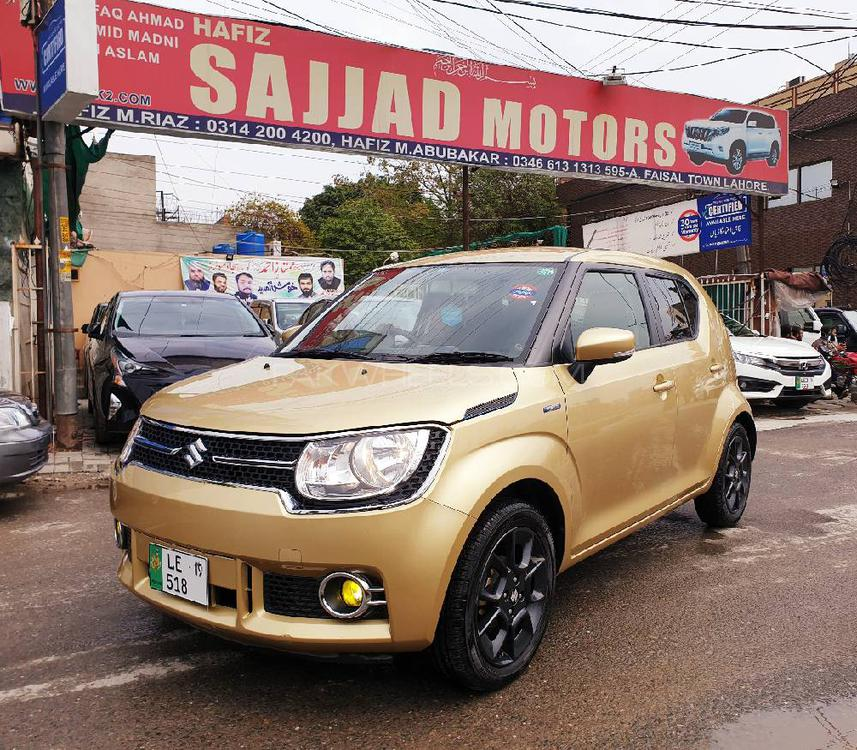license plate: (147, 540, 209, 601)
